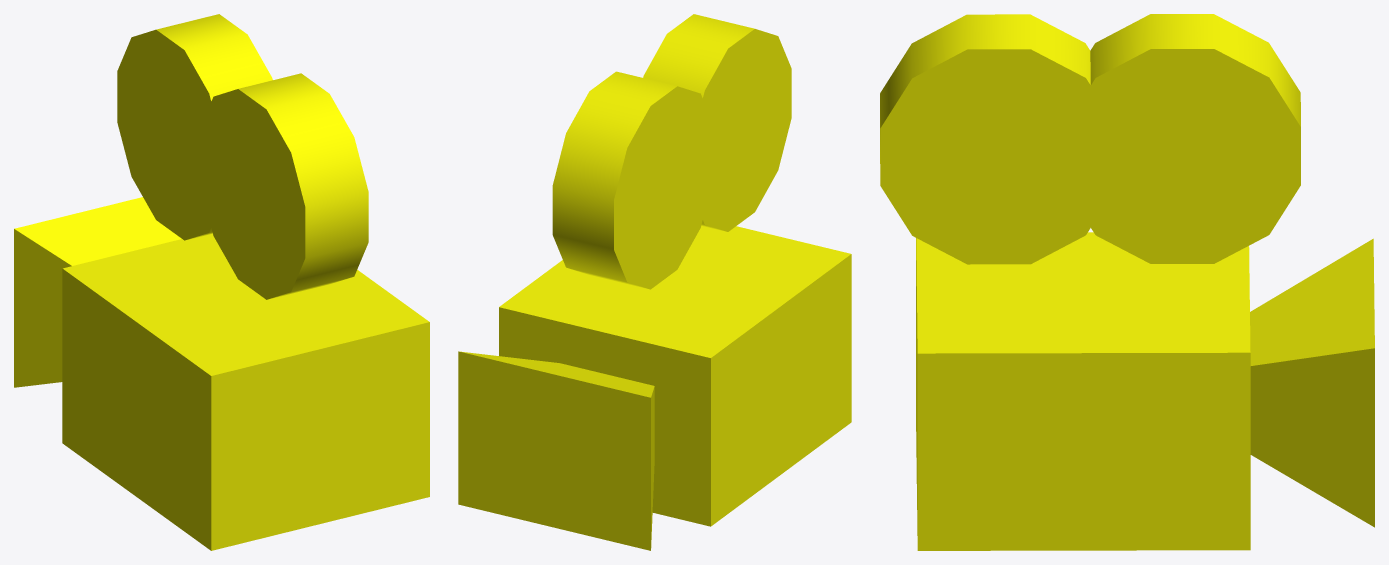
Rendered from node_camera.fbx.
3 views of the same model, side by side, from view 1: azimuth 30°, elevation 25°; view 2: azimuth 150°, elevation 25°; view 3: azimuth 270°, elevation 25° (orthographic). The views are drawn at different scales.
Visible parts, largest first — view 1: move camera.004; view 2: move camera.004; view 3: move camera.004.
Part boxes in pixels (<box>): move camera.004: <box>14,14,429,550</box>; move camera.004: <box>458,14,851,550</box>; move camera.004: <box>880,14,1374,550</box>.
Bounding box in the file's own units: 0.7488 × 1.29 × 1.32.
